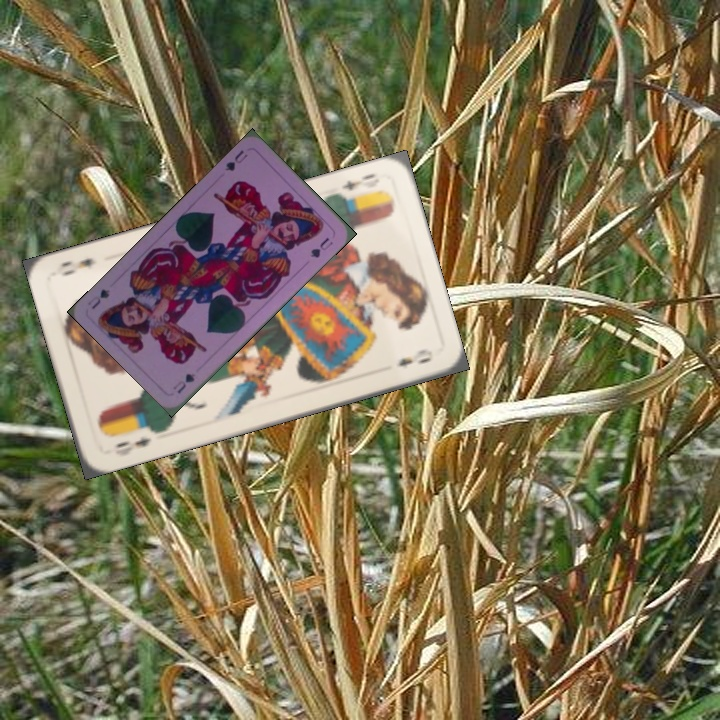EO: (330, 169, 378, 202), (111, 432, 155, 451)
GU: (221, 146, 250, 174), (169, 369, 198, 396)
